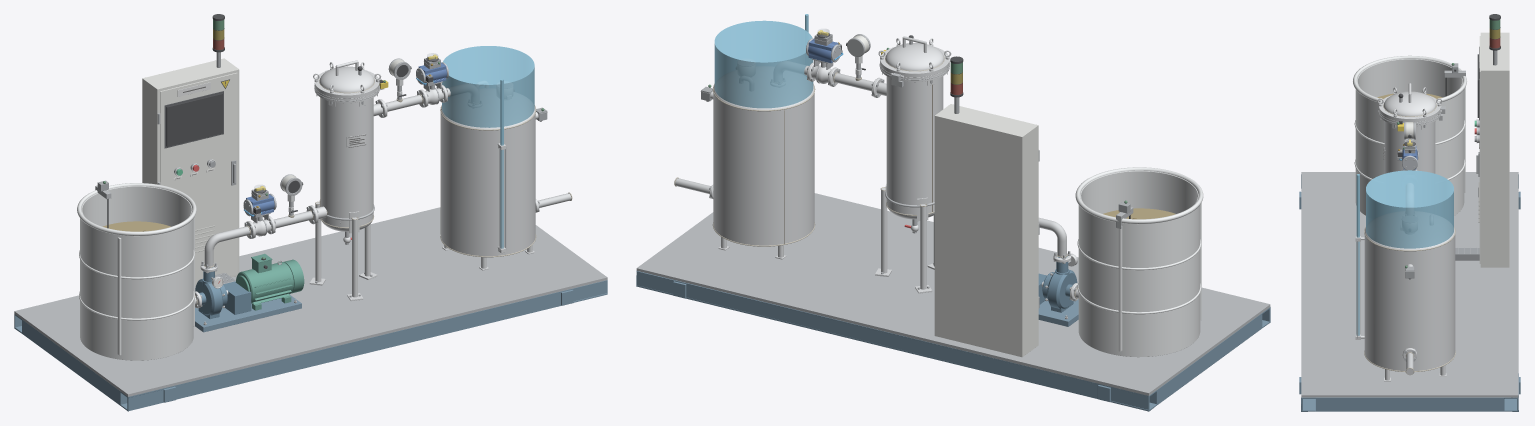
The model's file is roka.glb.
The picture shows the model from 3 angles, left to right: view 1: azimuth 30°, elevation 25°; view 2: azimuth 150°, elevation 25°; view 3: azimuth 270°, elevation 25°; orthographic projection. The views are drawn at different scales.
Visible parts, largest first — view 1: deck, raw_tank_body, panel_body, clean_tank_body, housing_body, skid, clean_liquid, pump_body, lid, valve_in_body, valve_out_body, sight_col (+1 smaller); view 2: deck, panel_body, raw_tank_body, clean_tank_body, skid, housing_body, clean_liquid, pump_body, lid, valve_out_body, pt_out_body; view 3: deck, clean_tank_body, raw_tank_body, panel_body, clean_liquid, skid, housing_body, lid, sight_col, valve_out_body, duct, pt_out_body.
Part boxes in pixels (x1,y1,x2,y2): deck: (14,207,607,396); raw_tank_body: (77,180,196,360); panel_body: (142,14,239,286); clean_tank_body: (440,83,547,270); housing_body: (306,79,388,300); skid: (14,280,607,411); clean_liquid: (442,46,534,127); pump_body: (195,254,304,332); lid: (313,60,381,104); valve_in_body: (243,189,276,238); valve_out_body: (416,57,448,107); sight_col: (500,79,503,248); deck: (636,193,1270,395); panel_body: (934,56,1039,357); raw_tank_body: (1075,167,1203,357); clean_tank_body: (700,63,815,259); skid: (636,270,1270,411); housing_body: (871,50,949,293); clean_liquid: (714,20,813,108); pump_body: (1038,251,1078,326); lid: (878,35,951,83); valve_out_body: (806,33,843,86); pt_out_body: (846,34,870,80); deck: (1301,172,1518,397); clean_tank_body: (1355,212,1455,381); raw_tank_body: (1353,55,1466,215); panel_body: (1474,14,1509,267); clean_liquid: (1366,170,1453,248); skid: (1299,174,1520,411); housing_body: (1378,110,1442,173); lid: (1377,83,1445,127); sight_col: (1356,174,1359,335); valve_out_body: (1397,141,1417,170); duct: (1455,247,1479,260); pt_out_body: (1404,121,1415,141).
Bounding box in the file's own units: 3.04 × 1.6 × 1.22.
